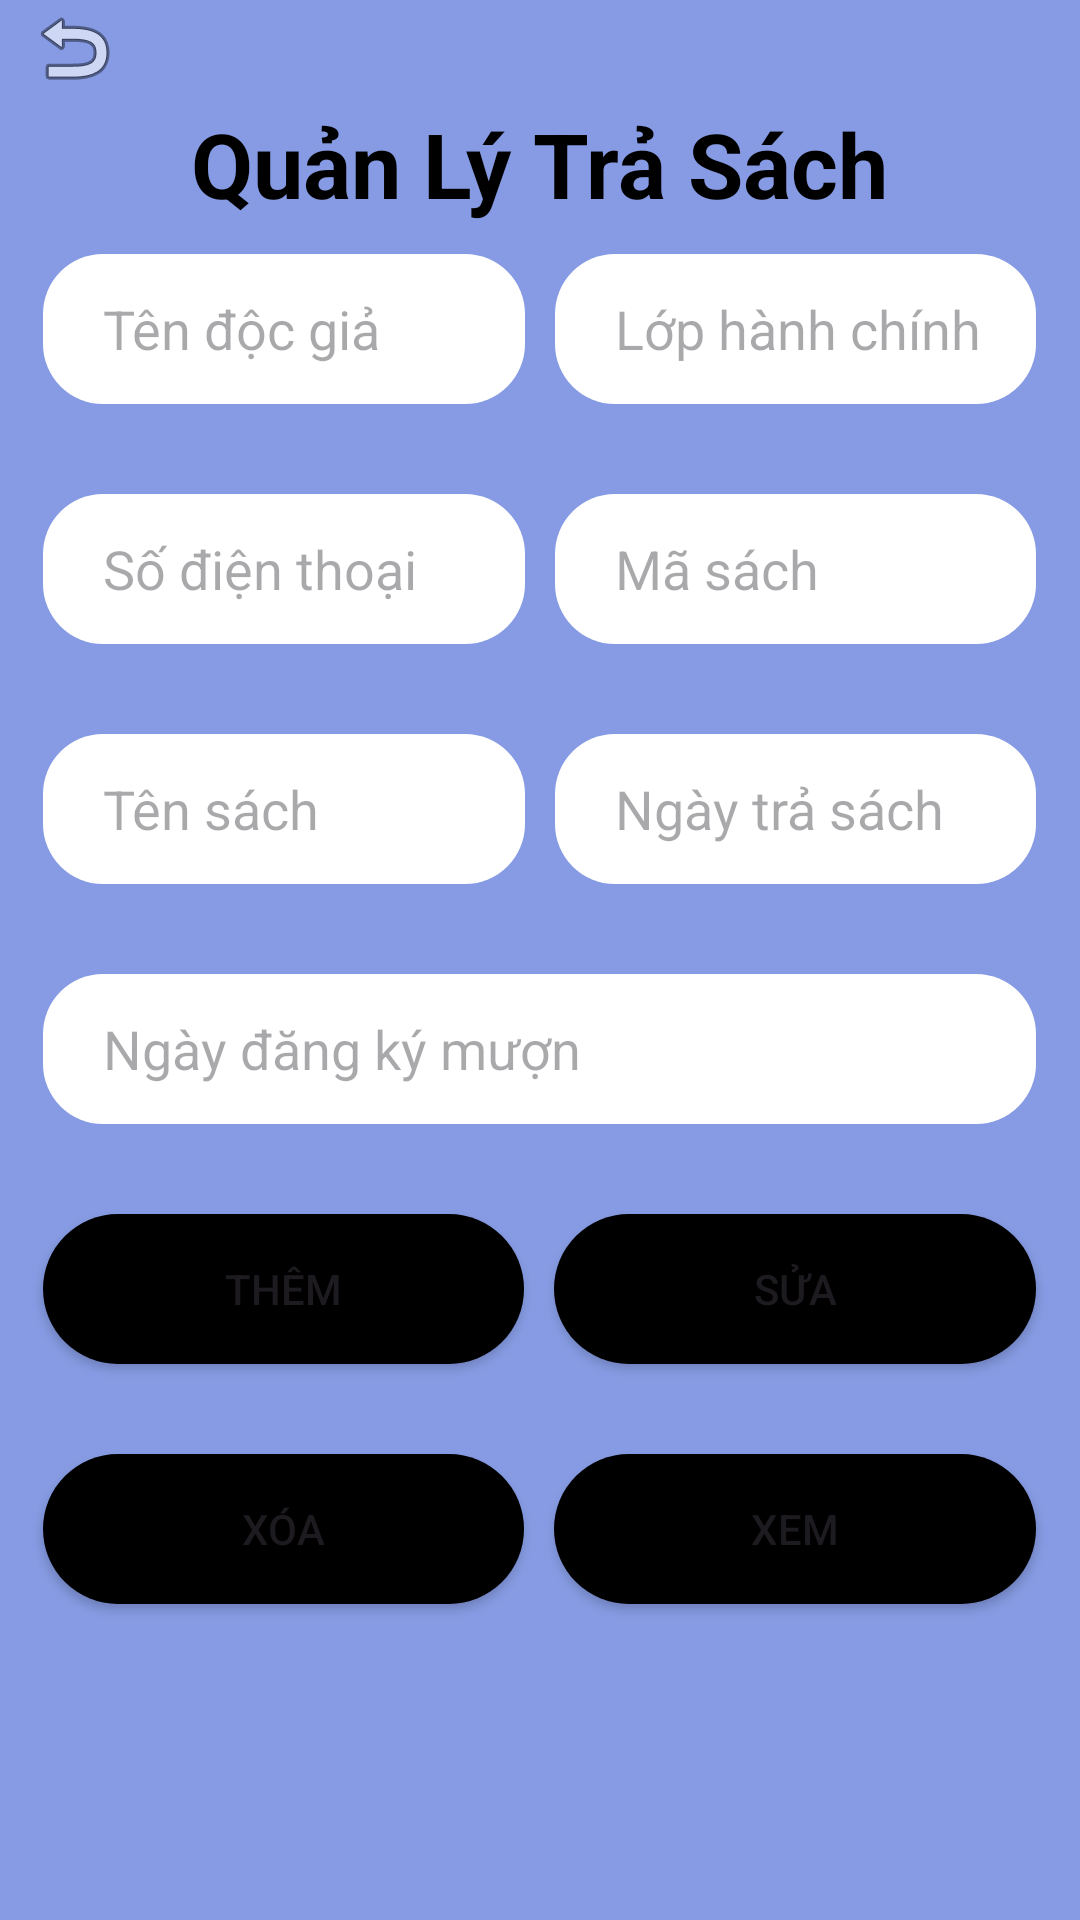

Icons on this 1080 x 1920 Android screen, each with its box as Rect(x1, y1, x2, y2):
revert: Rect(41, 17, 110, 80)
